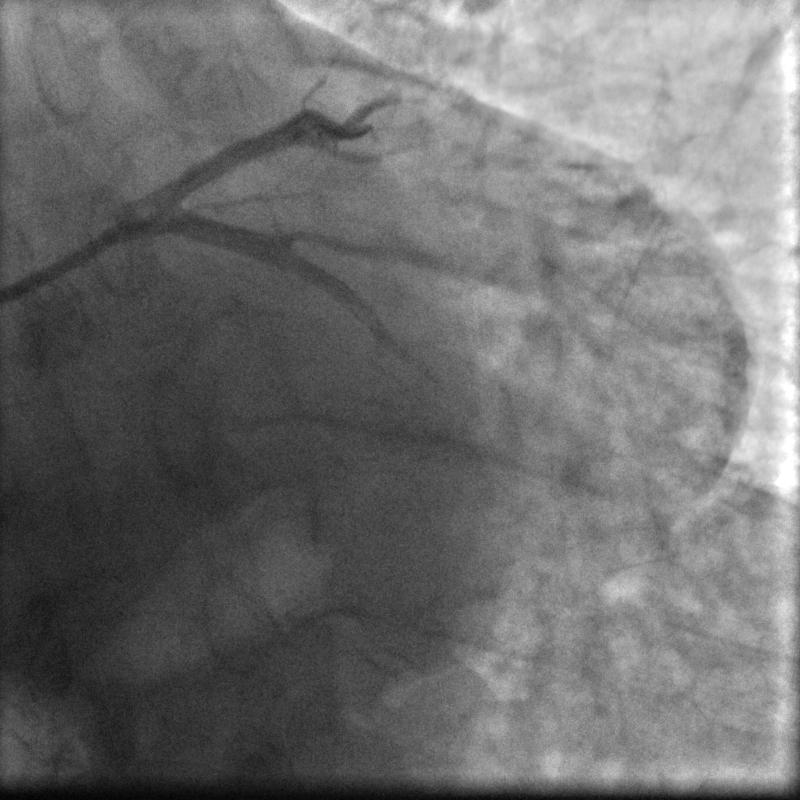Stenosis: (387, 327, 425, 385)
